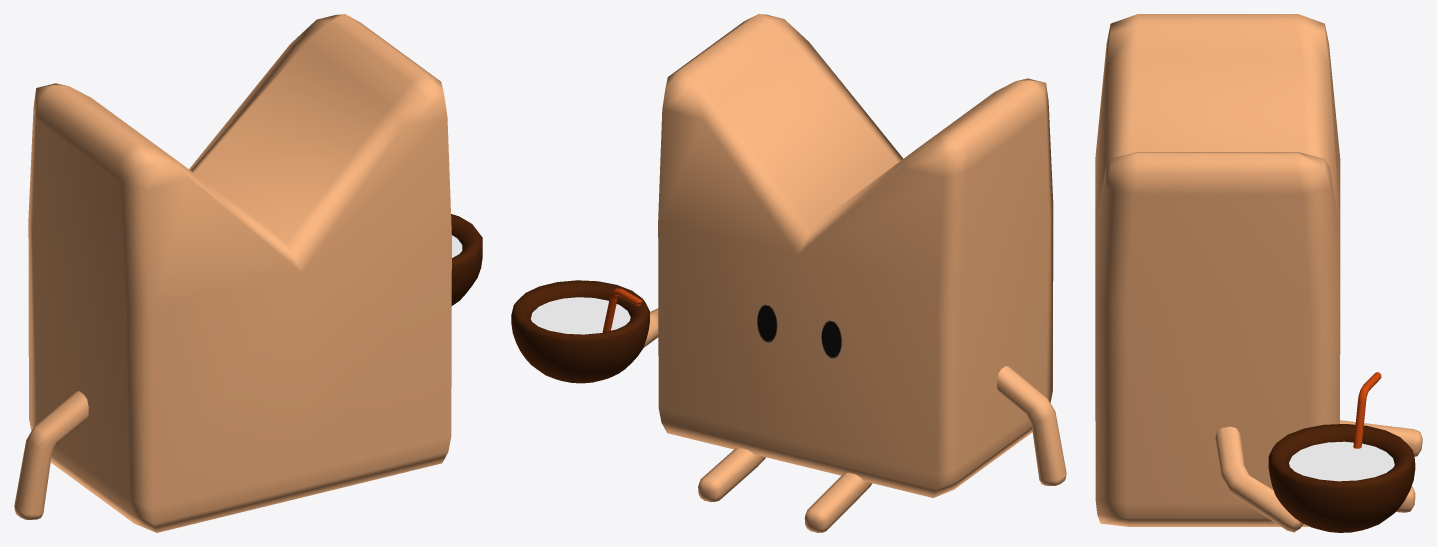
File: EnemyNatureWoodTinyCocco.fbx
3 views of the same model, side by side, from view 1: azimuth 30°, elevation 25°; view 2: azimuth 150°, elevation 25°; view 3: azimuth 270°, elevation 25° (orthographic). The views are drawn at different scales.
Visible parts, largest first — view 1: polySurface1, polySurface5, Cocco7; view 2: polySurface1, Cocco7, polySurface5, polySurface2, polySurface3; view 3: polySurface1, Cocco7, polySurface4, polySurface2.
Boxes of the visible parts, x1,y1,x2,y2 form: polySurface1: (28, 14, 451, 532); polySurface5: (14, 391, 88, 519); Cocco7: (451, 214, 482, 305); polySurface1: (658, 14, 1053, 497); Cocco7: (511, 280, 649, 383); polySurface5: (997, 366, 1066, 485); polySurface2: (804, 472, 872, 532); polySurface3: (698, 448, 765, 502); polySurface1: (1095, 14, 1340, 526); Cocco7: (1268, 372, 1415, 532); polySurface4: (1215, 426, 1303, 532); polySurface2: (1340, 420, 1422, 456).
Bounding box in the file's own units: 0.911 × 0.6775 × 0.5038.
